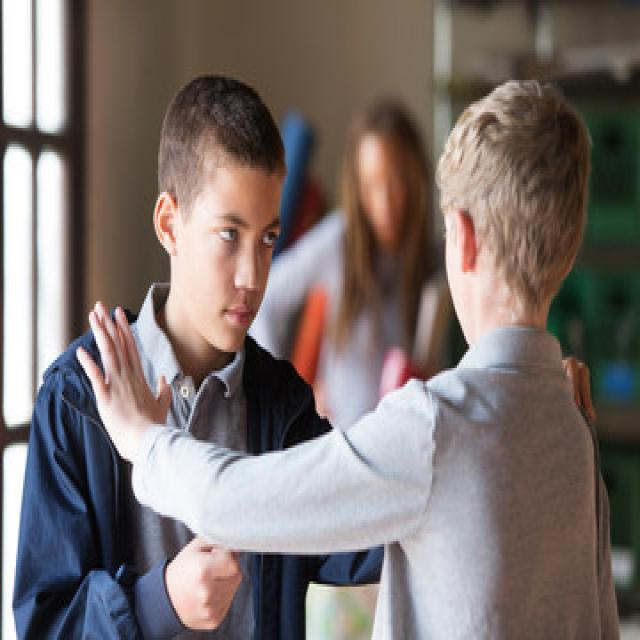fight: (87, 55, 595, 555)
